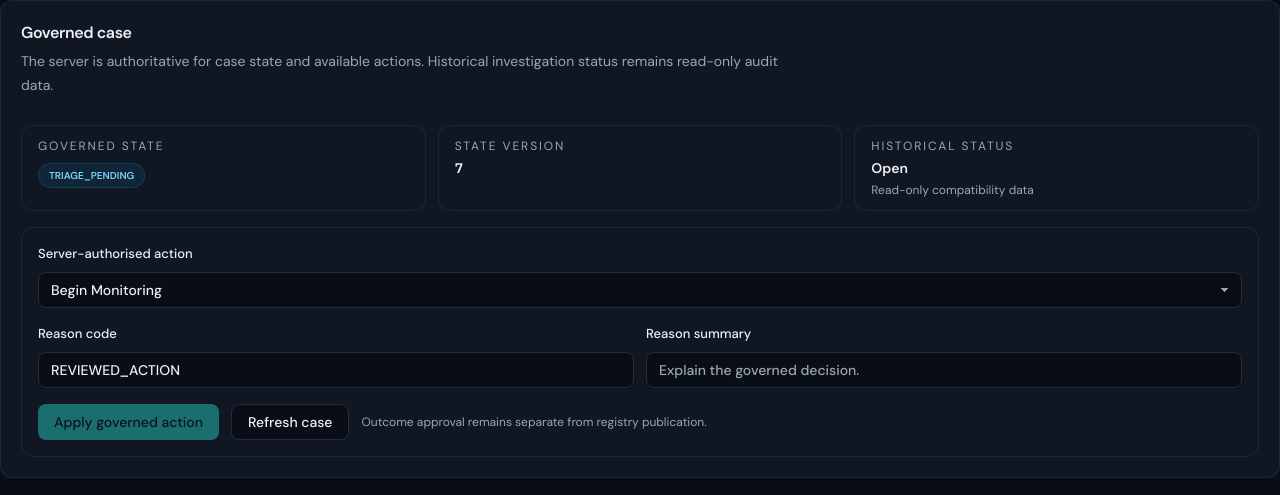
Test: GovernedCaseActionPanel › submits idempotency header and loaded version without target or trusted context
Expected: the button "Apply governed action" is shown, [38, 404, 219, 440]
Type "Monitoring remains proportionate." into the field labelled "Reason summary" at (944, 370), box [646, 352, 1242, 388]
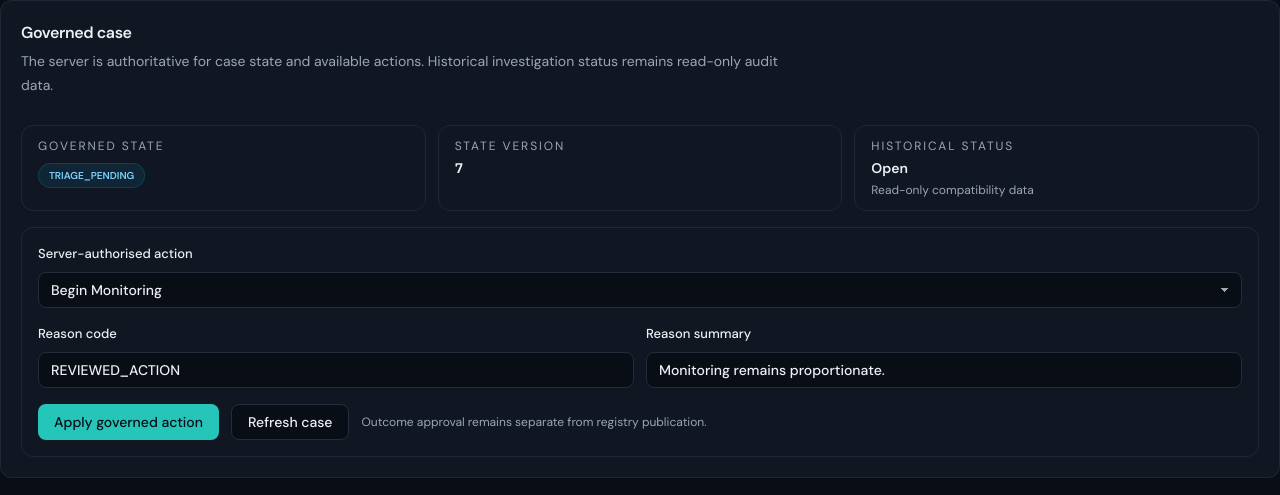
Click the button "Apply governed action" at (128, 422), box [38, 404, 219, 440]
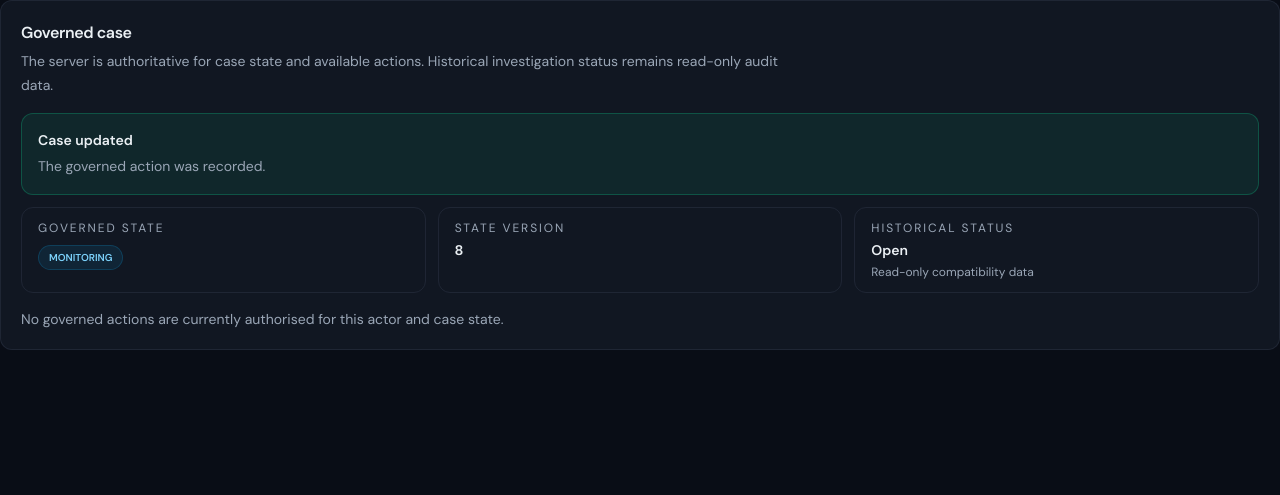
Result: the text "The governed action was recorded." is shown at [38, 154, 265, 178]
